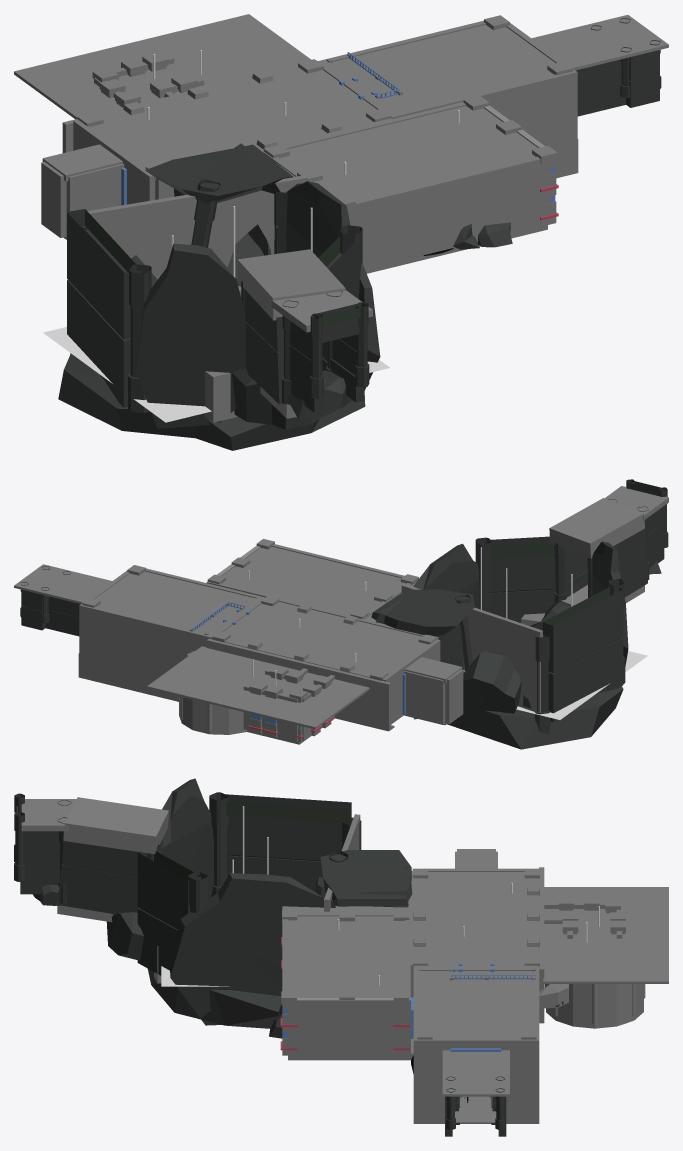
Rendered from EauFini.FBX.
The picture shows the model from 3 angles, top to bottom: view 1: azimuth 30°, elevation 25°; view 2: azimuth 150°, elevation 25°; view 3: azimuth 270°, elevation 25°; orthographic projection. The views are drawn at different scales.
Parts seen in each view (by area): view 1: PLAFOND (×3), debris.008, PLAFOND003, PLAFOND004, Box163, PLAFOND001, wall_xl015, Box063, debris.006, debris.018, Box149, debris.007 (+32 smaller); view 2: PLAFOND (×3), PLAFOND004, wall_xl015, PLAFOND003, Box151, PLAFOND001, wall_xl014, debris.006, Box063, Box068, debris.018, debris.035 (+27 smaller); view 3: PLAFOND (×3), debris.007, PLAFOND004, PLAFOND003, wall_xl015, PLAFOND001, Box162, wall_xl013, wall_xl014, debris.018, Box150, debris.008 (+16 smaller).
Part boxes in pixels (x1,y1,x2,y2): PLAFOND (×3): (90,67,377,332); debris.008: (135,243,246,428); PLAFOND003: (277,106,540,208); PLAFOND004: (14,14,311,119); Box163: (347,156,551,269); PLAFOND001: (332,25,575,116); wall_xl015: (67,209,141,407); Box063: (87,175,308,279); debris.006: (58,353,365,450); debris.018: (145,144,293,203); Box149: (399,72,577,175); debris.007: (286,181,380,390); PLAFOND (×3): (223,486,668,677); PLAFOND004: (147,646,369,729); wall_xl015: (542,587,623,721); PLAFOND003: (222,546,415,621); Box151: (79,605,205,699); PLAFOND001: (95,571,255,638); wall_xl014: (485,536,555,622); debris.006: (447,686,623,749); Box063: (401,584,542,716); Box068: (207,638,394,731); debris.018: (371,589,474,635); debris.035: (463,651,521,716); PLAFOND (×3): (21,797,539,965); debris.007: (170,873,335,1025); PLAFOND004: (543,887,668,983); PLAFOND003: (282,906,407,997); wall_xl015: (223,794,351,892); PLAFOND001: (419,971,533,1038); Box162: (288,998,410,1055); wall_xl013: (58,841,149,914); wall_xl014: (137,851,201,975); debris.018: (320,850,412,906); Box150: (413,1038,539,1095); debris.008: (162,778,214,899).
Size of the model in its own units: 9263 by 2629 by 9235.
25 materials, 4 textured.
